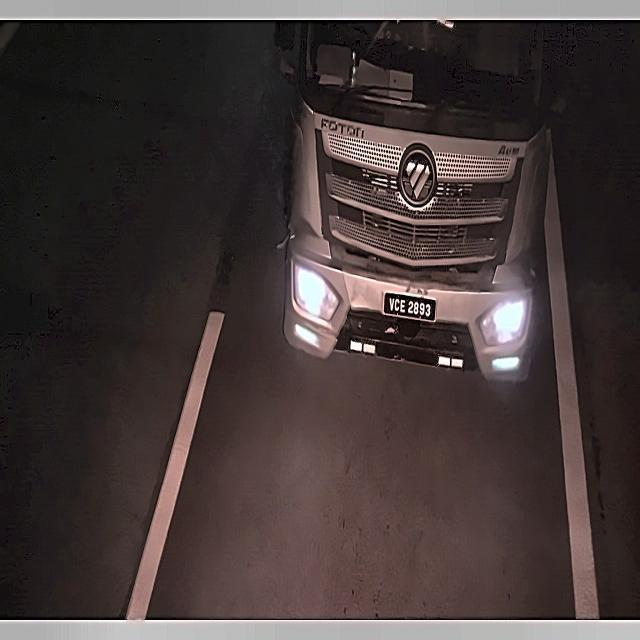car: (377, 286, 442, 329)
